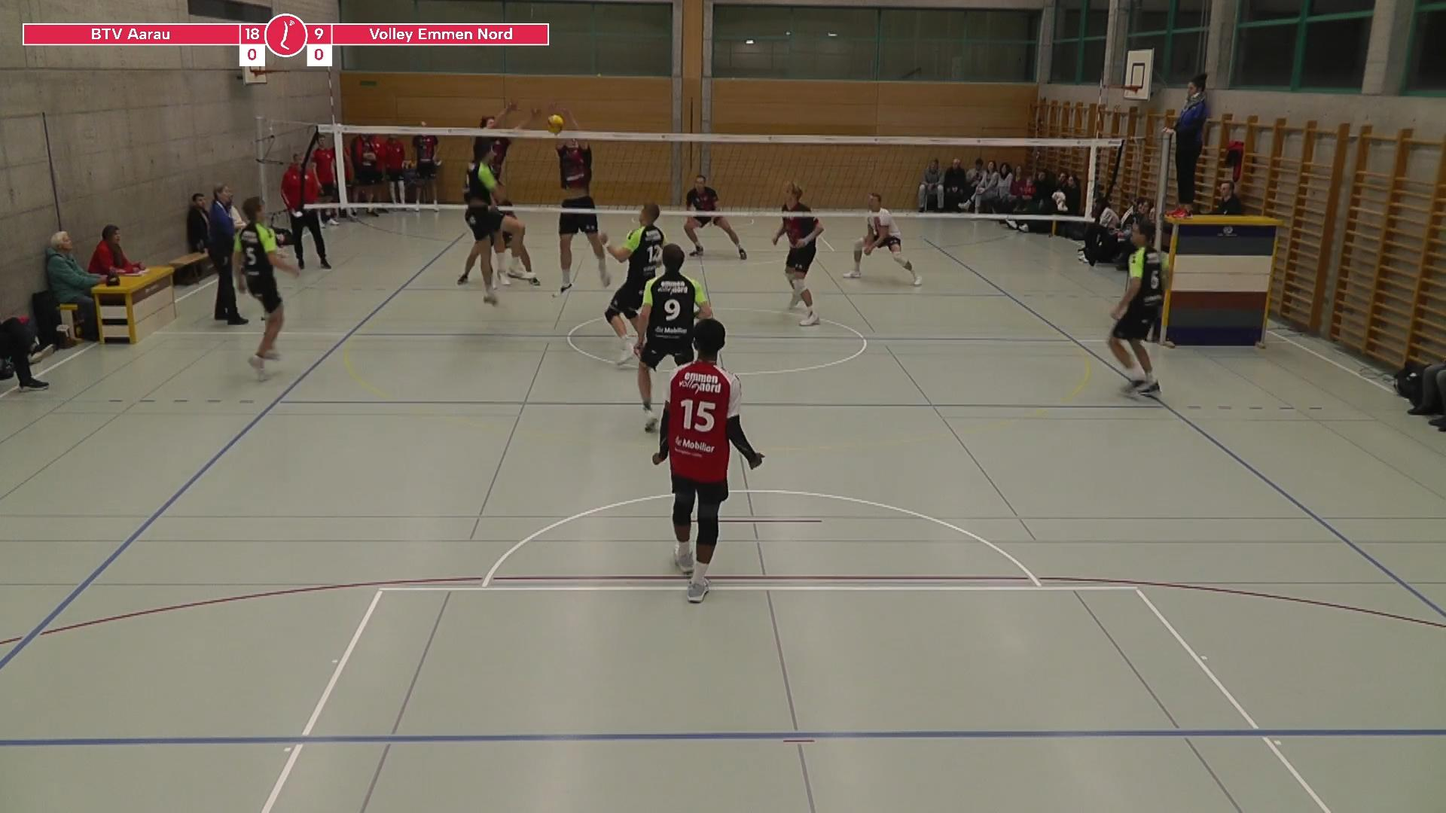Attack: (456, 128, 544, 310)
Block: (549, 112, 618, 294), (462, 95, 527, 180)
Player: (652, 319, 763, 602), (637, 244, 712, 431), (232, 197, 299, 379), (604, 203, 665, 364), (1108, 221, 1164, 395), (772, 182, 823, 326), (844, 193, 921, 286), (685, 175, 746, 260), (494, 199, 540, 285)
ball: (546, 112, 570, 135)
